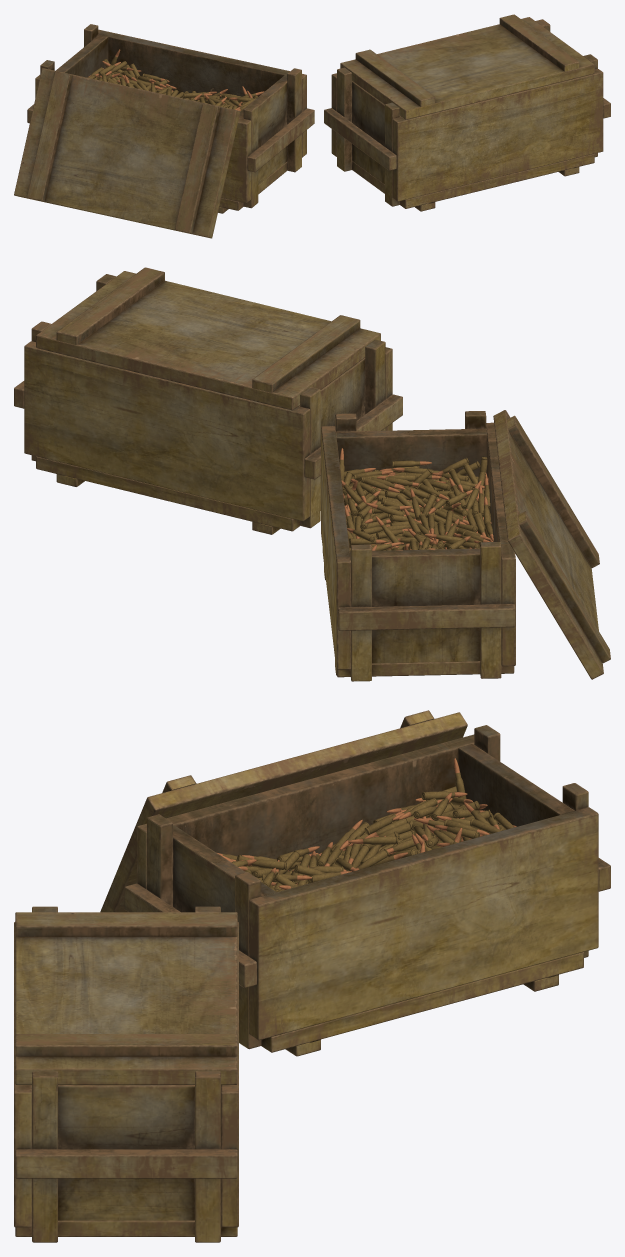
3 views of the same model, one above another, from view 1: azimuth 30°, elevation 25°; view 2: azimuth 150°, elevation 25°; view 3: azimuth 270°, elevation 25° (orthographic). The views are drawn at different scales.
Parts seen in each view (by area): view 1: box_lid, box.002, box, box_lid.002, bullets; view 2: box.002, box, box_lid.002, box_lid, bullets; view 3: box, box_lid.002, box.002, bullets, box_lid.
Boxes of the visible parts, x1,y1,x2,y2 form: box_lid: (14, 68, 240, 238); box.002: (324, 19, 610, 211); box: (27, 24, 314, 213); box_lid.002: (340, 14, 594, 119); bullets: (88, 49, 264, 111); box.002: (14, 274, 402, 534); box: (321, 411, 515, 681); box_lid.002: (36, 267, 380, 410); box_lid: (493, 410, 610, 679); bullets: (339, 448, 493, 551); box: (124, 725, 610, 1056); box_lid.002: (15, 912, 237, 1084); box.002: (14, 906, 238, 1242); bullets: (216, 758, 516, 892); box_lid: (100, 710, 467, 912).
Bounding box in the file's own units: 253 × 55.97 × 159.
